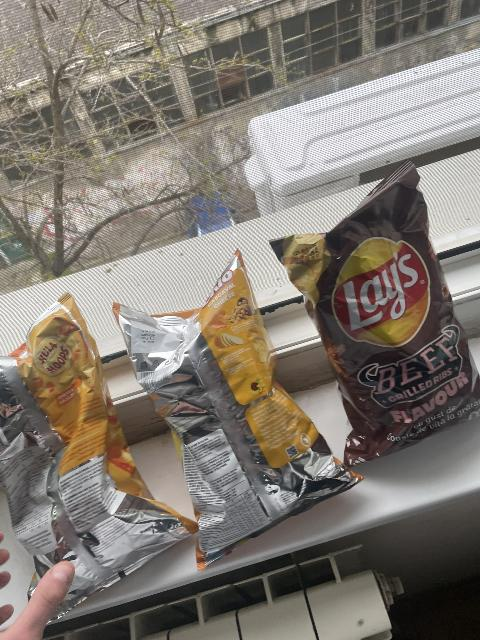Chio Cascaval 125g: (115, 247, 363, 574)
Chio Hula Hoops Cheese 70g: (1, 303, 201, 619)
Lays Beef Grilled Ribs 125g: (269, 165, 480, 467)
